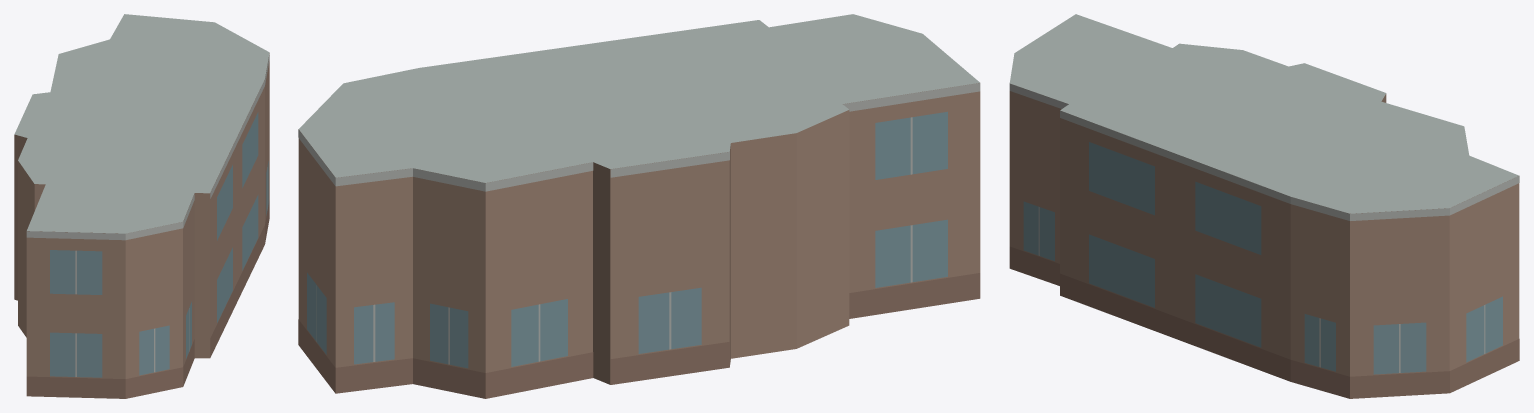
Rendered from survey-upis-32601825.glb.
3 renders of one model, left to right at view 1: azimuth 30°, elevation 25°; view 2: azimuth 150°, elevation 25°; view 3: azimuth 270°, elevation 25°, orthographic. The views are drawn at different scales.
Visible parts, largest first — view 1: survey-upis-32601825.tmp; view 2: survey-upis-32601825.tmp; view 3: survey-upis-32601825.tmp.
Boxes of the visible parts, box(x1,y1,x2,y2) form: survey-upis-32601825.tmp: box(14, 14, 269, 398); survey-upis-32601825.tmp: box(298, 14, 980, 398); survey-upis-32601825.tmp: box(1009, 14, 1519, 398).
Size of the model in its own units: 14.13 by 6.1 by 15.23.
